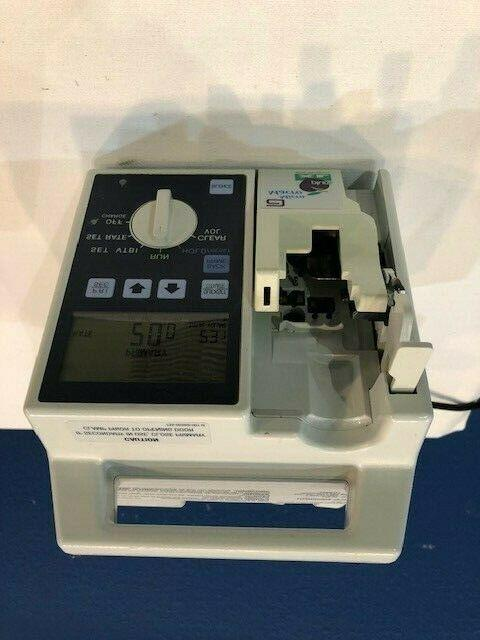plumxl1: (29, 168, 418, 569)
